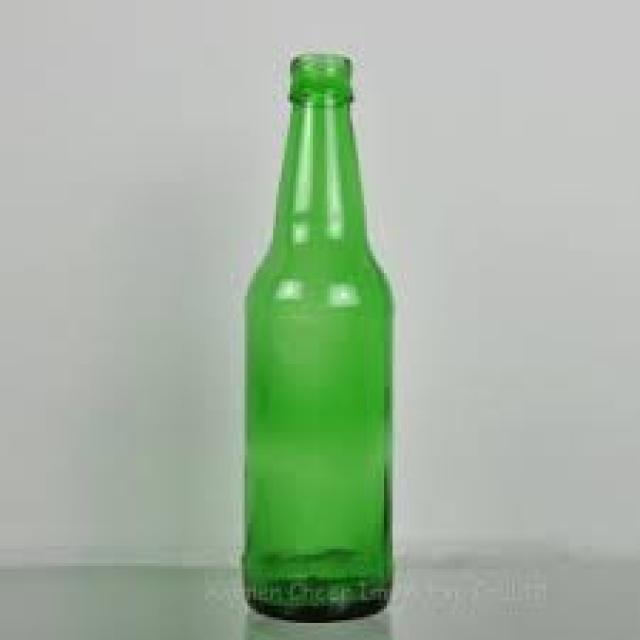glass: (242, 51, 390, 623)
